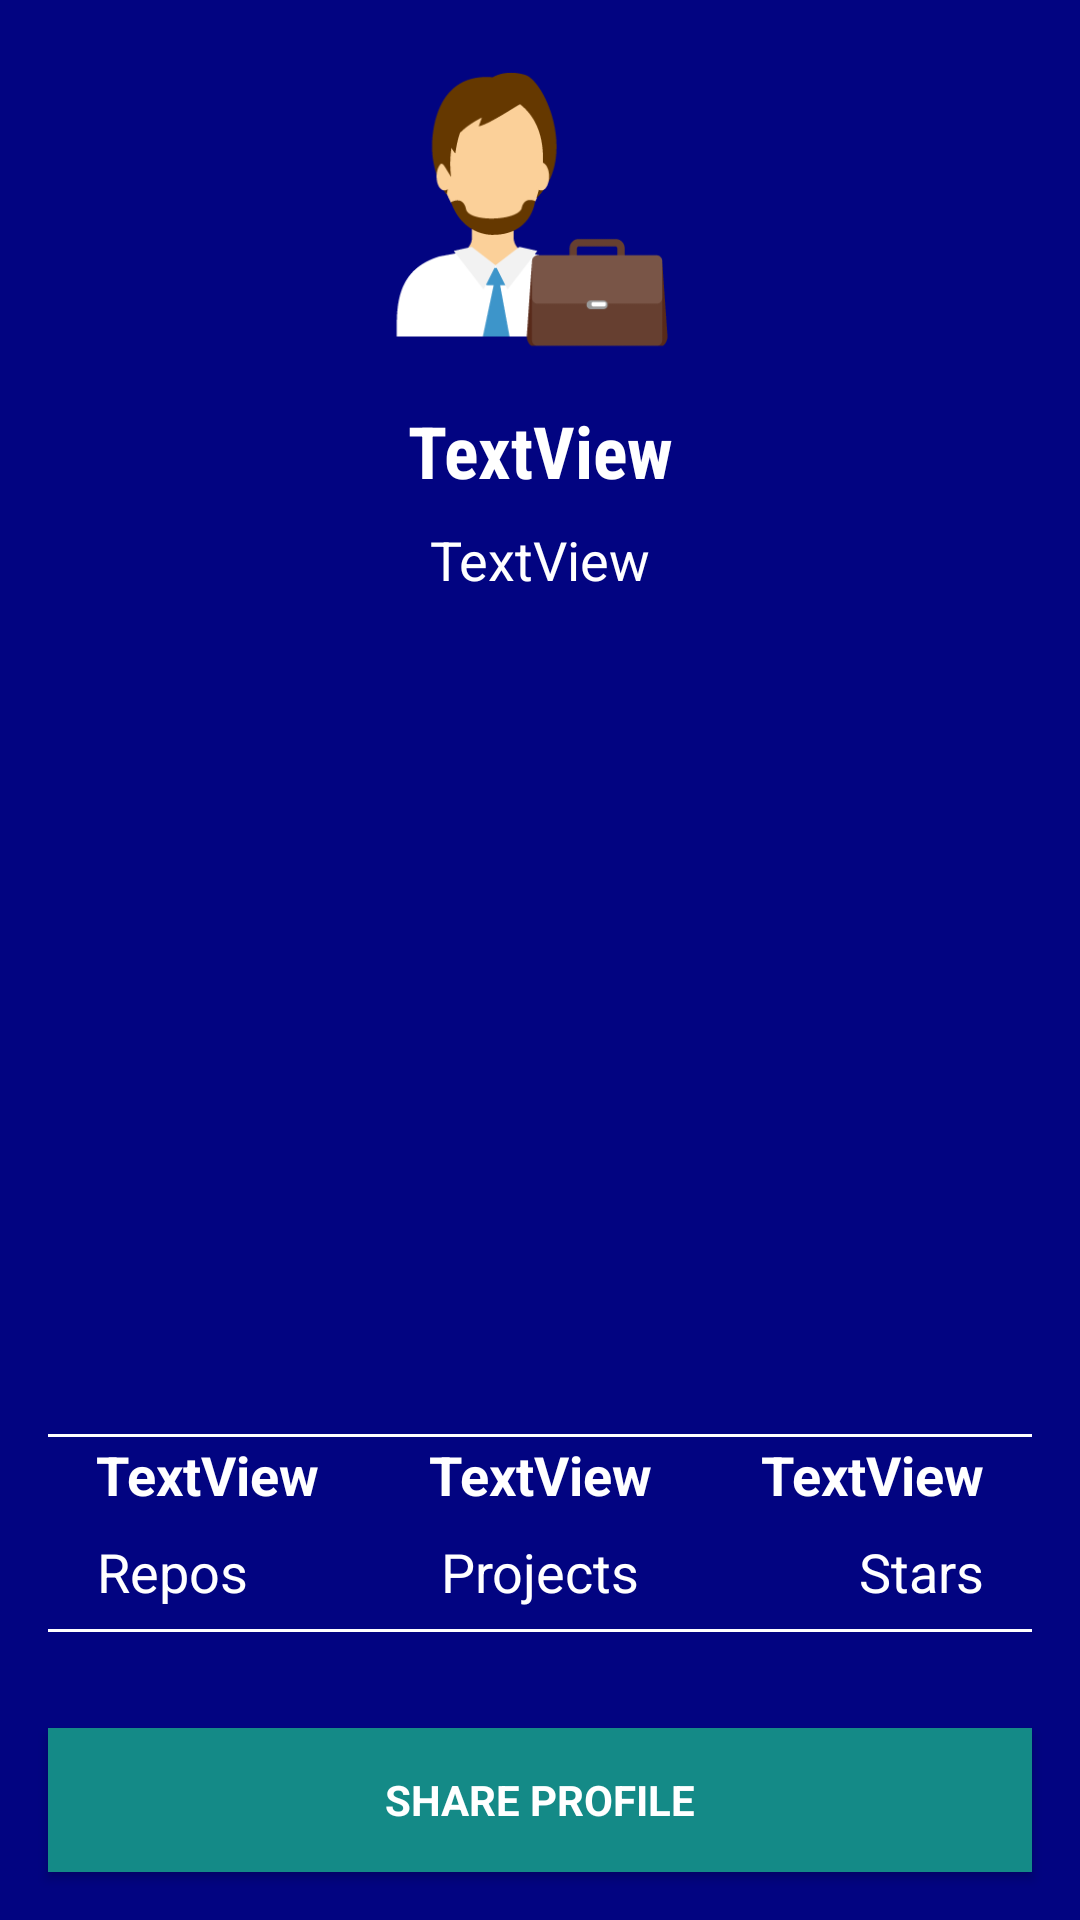

Where to tap for icons on this 1080×1920 app screen, as (x=x, y=y):
employee: (x=532, y=209)
